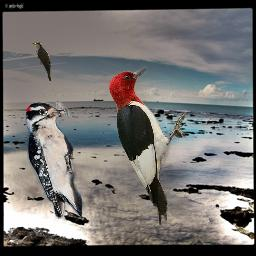Cuckoo: (32, 42, 52, 82)
Woodpecker: (107, 65, 188, 225), (25, 102, 82, 219)
